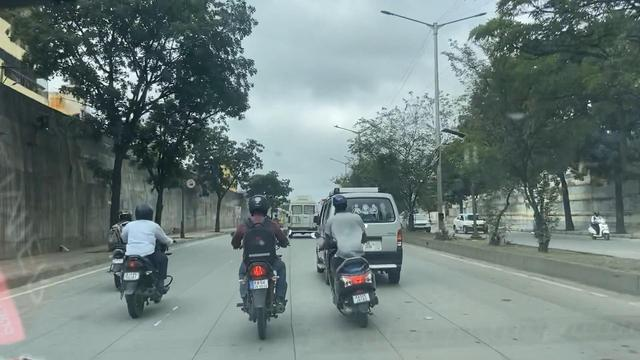LMV: (224, 188, 292, 336), (117, 193, 179, 321), (316, 199, 372, 315), (334, 189, 389, 269), (109, 215, 126, 281)
